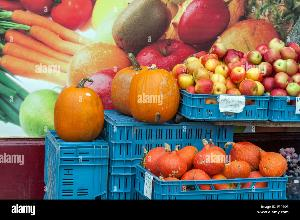apple: (174, 36, 300, 98)
carrot: (1, 15, 97, 89)
